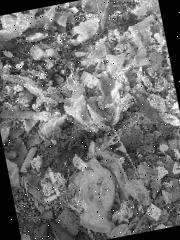general: (36, 163, 70, 203), (110, 196, 136, 224), (111, 64, 131, 88)
plastic: (116, 113, 150, 152), (29, 36, 62, 64), (70, 16, 106, 40)
